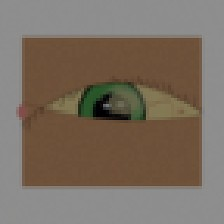corneal_ulcer: (98, 82, 149, 123)
